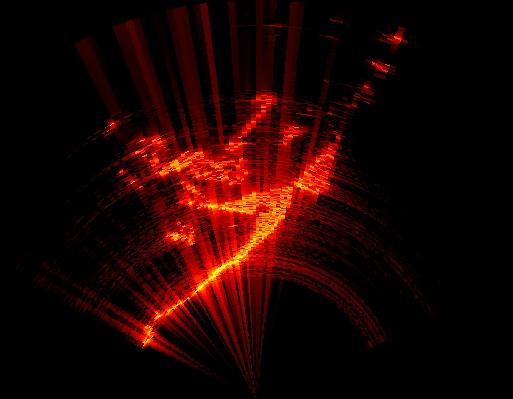shipwreck: (126, 91, 338, 354)
